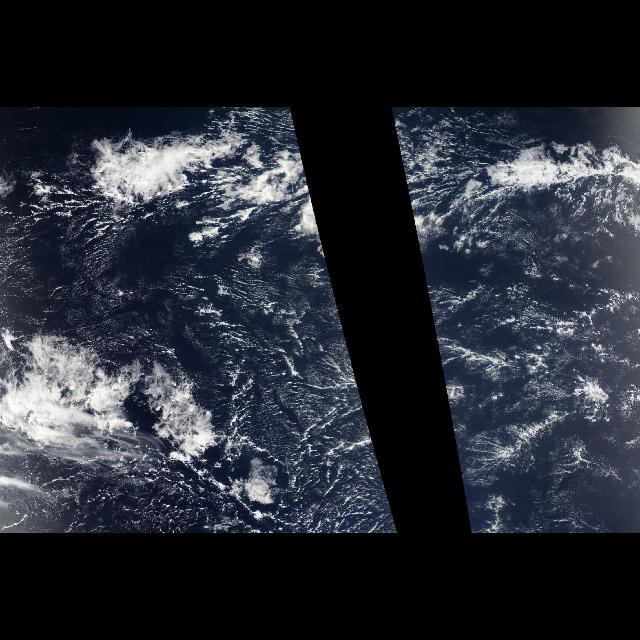Fish: (14, 322, 266, 520), (56, 127, 334, 285), (394, 127, 640, 295)
Gravel: (180, 318, 398, 530)
Sugar: (2, 217, 330, 377), (444, 382, 636, 528), (224, 382, 398, 528)
